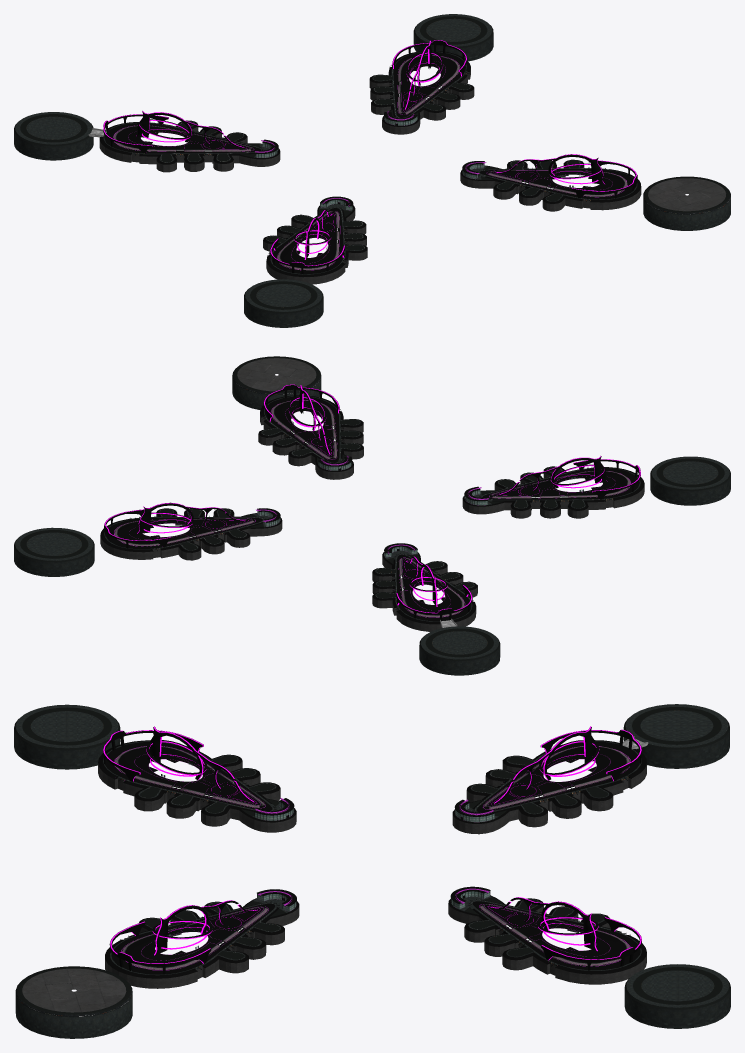
The model's file is XANA_Summit_Base.fbx.
3 renders of one model, top to bottom at view 1: azimuth 30°, elevation 25°; view 2: azimuth 150°, elevation 25°; view 3: azimuth 270°, elevation 25°, orthographic. The views are drawn at different scales.
Visible parts, largest first — view 1: Xana_SummitBase; view 2: Xana_SummitBase; view 3: Xana_SummitBase.
Boxes of the visible parts, bbox=[...] form: Xana_SummitBase: bbox=[14, 14, 730, 327]; Xana_SummitBase: bbox=[14, 356, 730, 675]; Xana_SummitBase: bbox=[14, 704, 730, 1038].
Bounding box in the file's own units: 69275 × 6276 × 67349.
